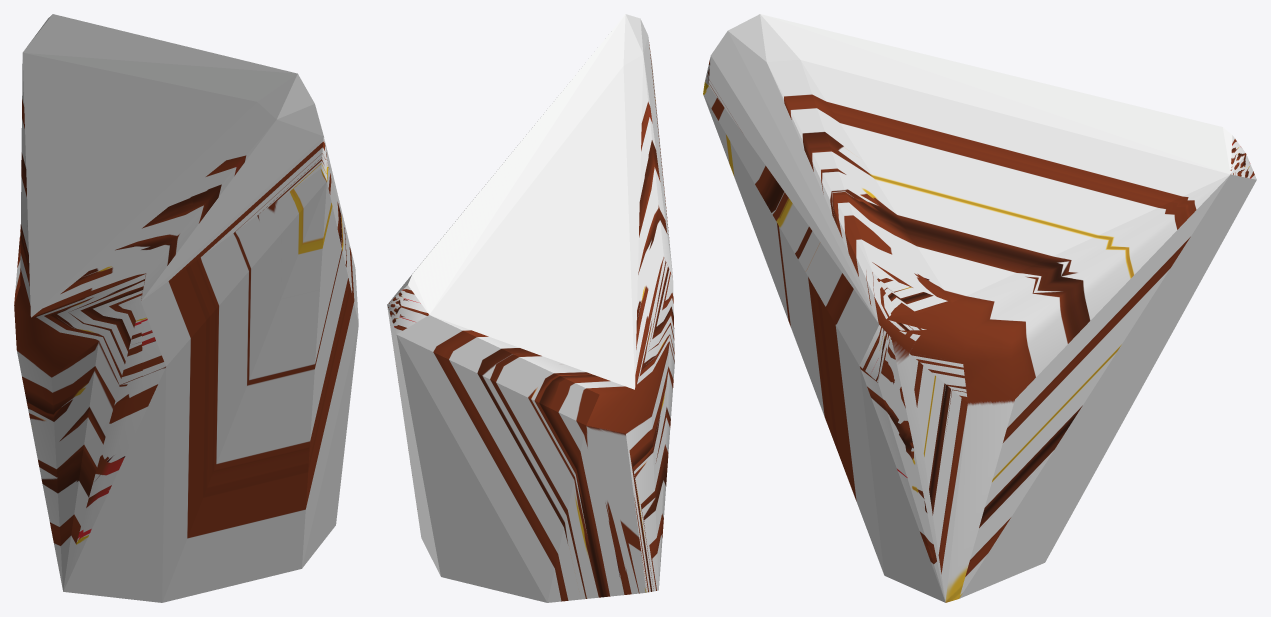
The model's file is chickenMesh.fbx.
The picture shows the model from 3 angles, left to right: view 1: azimuth 30°, elevation 25°; view 2: azimuth 150°, elevation 25°; view 3: azimuth 270°, elevation 25°; orthographic projection. The views are drawn at different scales.
Visible parts, largest first — view 1: Chicken; view 2: Chicken; view 3: Chicken.
Part boxes in pixels (x1,y1,x2,y2): Chicken: (14,14,358,602); Chicken: (387,14,674,602); Chicken: (703,14,1256,602).
Bounding box in the file's own units: 27.18 × 52.52 × 49.8.
